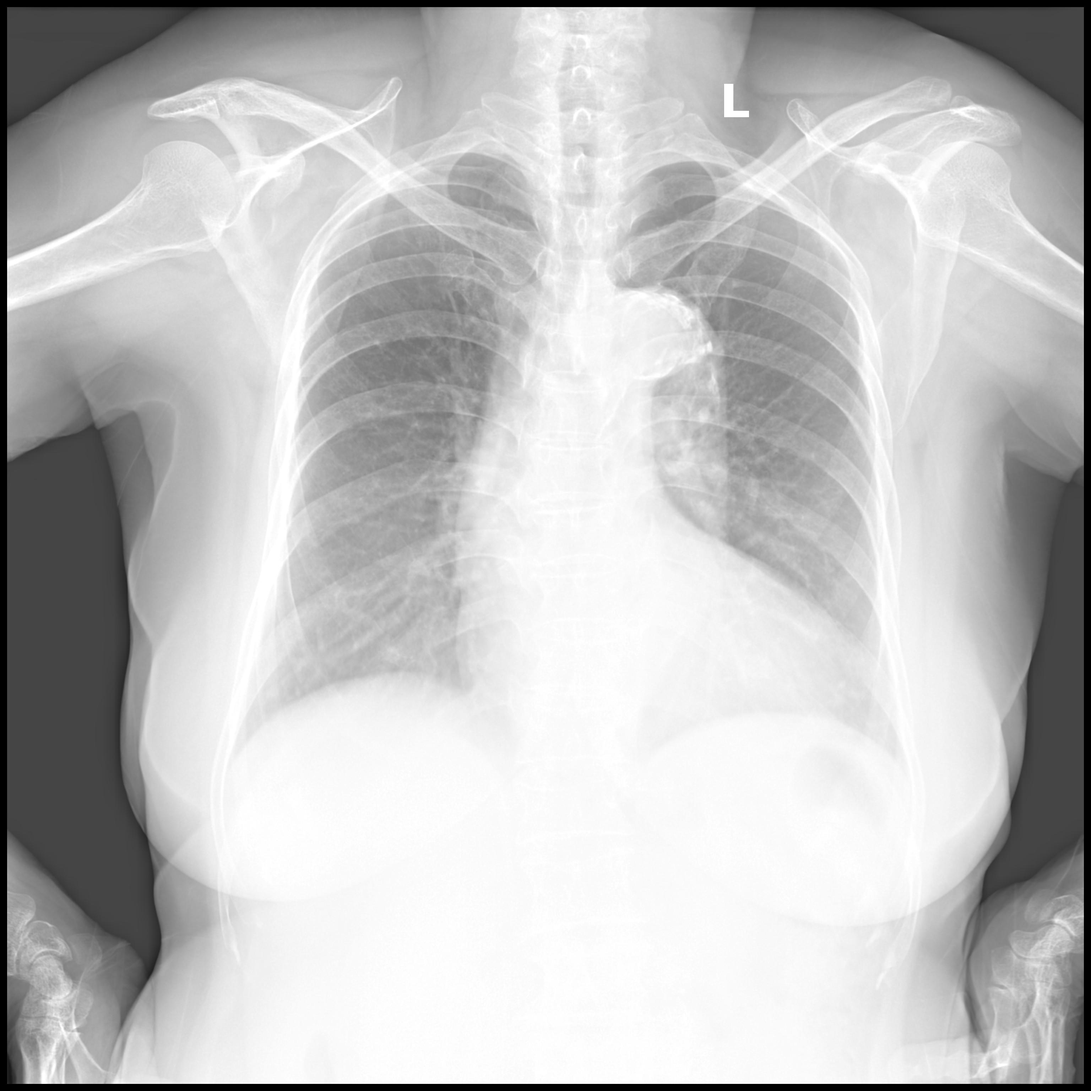Aortic enlargement: (586, 291, 722, 409)
Cardiomegaly: (450, 600, 860, 719)
